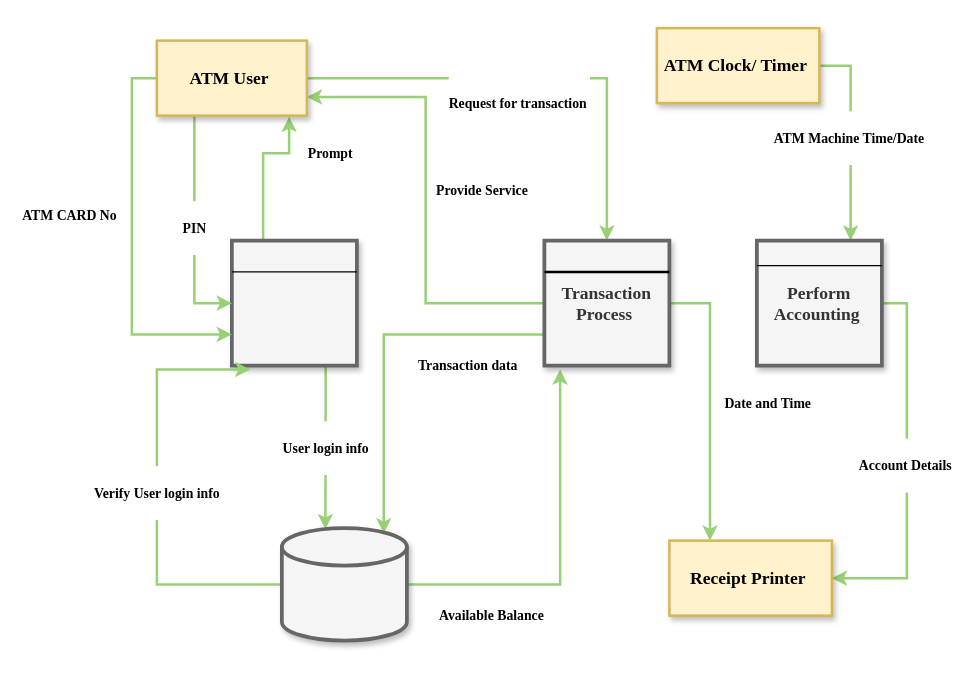
This 976x673 diagram has some shape labels left out. Here are the shapes that lost their labels. From the top down, the centre of each, then its label:
At point (295, 304): "Verify Customer".
At point (345, 586): "Database".
